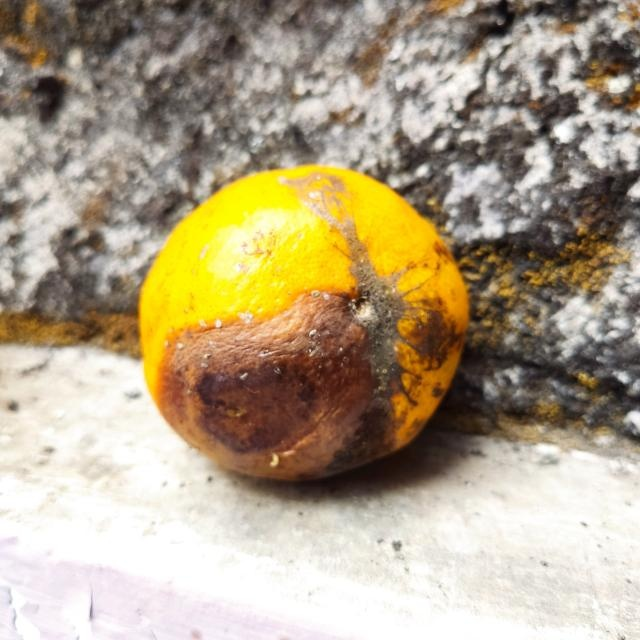agrume: (136, 166, 467, 484)
